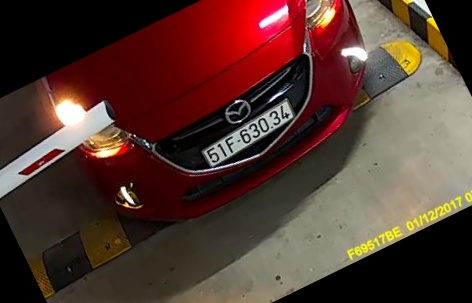plate: (193, 102, 312, 169)
